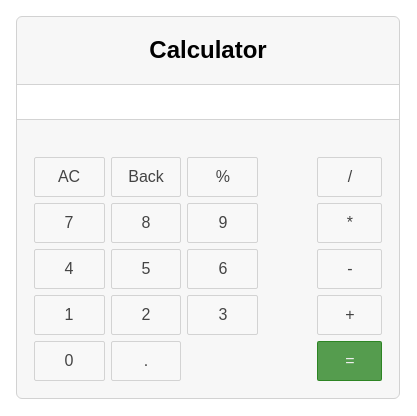
Test: check combination 1
In the field named "enter input": (208, 102) [16,85,399,119], type "24+123-123/2+12"
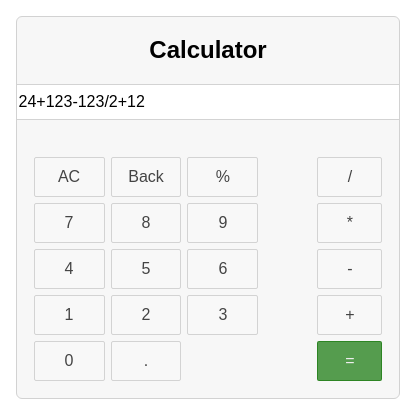
Click the button "=": (350, 360) [318,340,382,380]
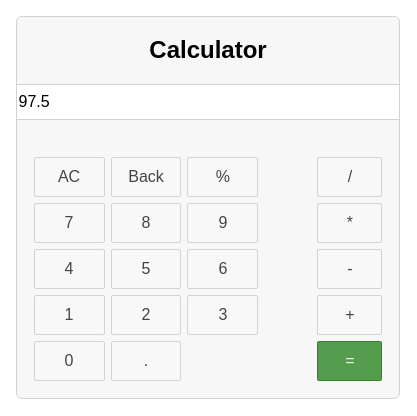
Result: the field showing "97.5" is shown at [16,85,399,119]
